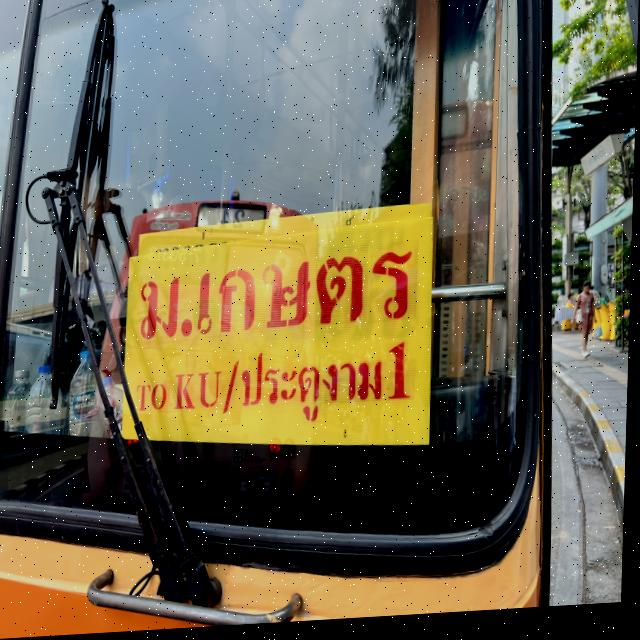BMTA-bus: (0, 0, 573, 640)
Destination-Sign-Extra-Bus-Expressway: (123, 234, 440, 463)
